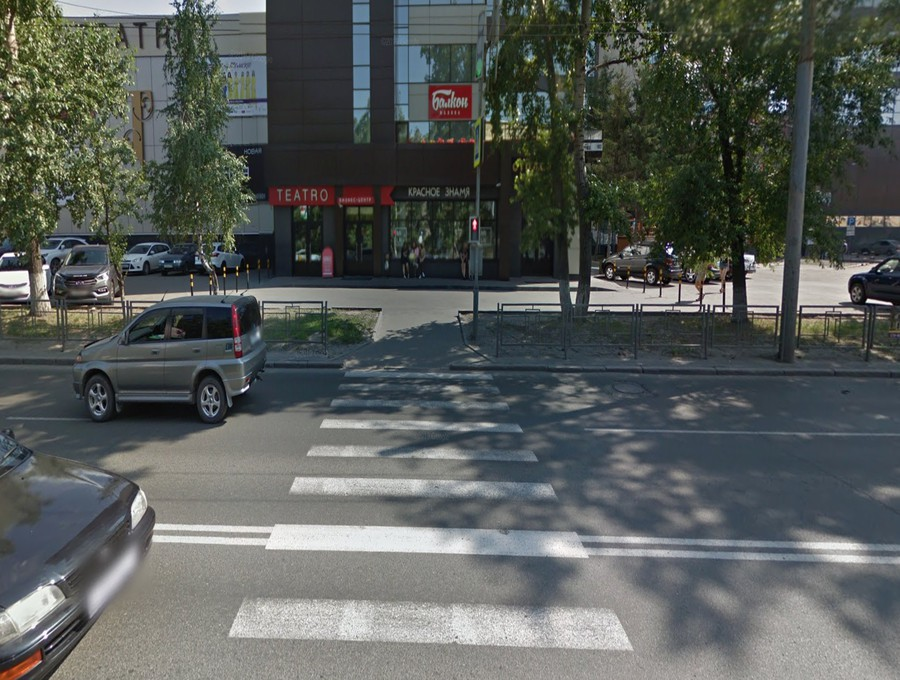Traffic Light-red: (467, 212, 484, 249)
